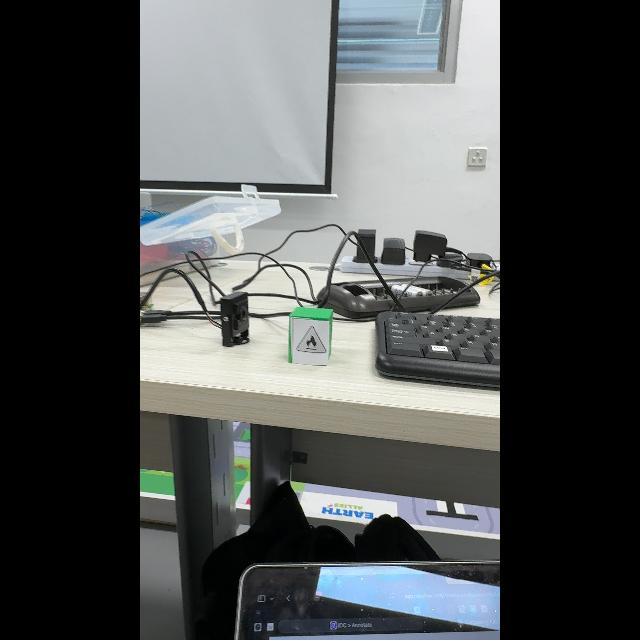Fire: (297, 327, 326, 354)
